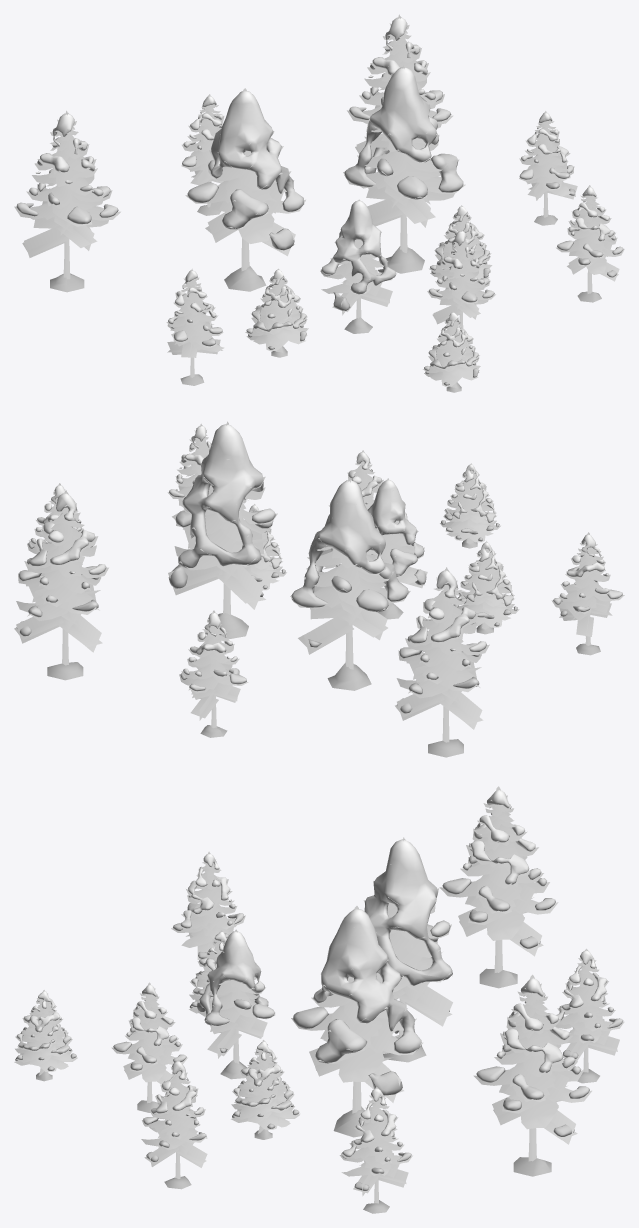
File: bud_xuedi_songlin.fbx
3 views of the same model, one above another, from view 1: azimuth 30°, elevation 25°; view 2: azimuth 150°, elevation 25°; view 3: azimuth 270°, elevation 25° (orthographic). The views are drawn at different scales.
Parts seen in each view (by area): view 1: songlinshu_lod00, songlinshuxue_lod00; view 2: songlinshu_lod00, songlinshuxue_lod00; view 3: songlinshu_lod00, songlinshuxue_lod00.
Part boxes in pixels (<box>): songlinshu_lod00: <box>14,14,624,388</box>; songlinshuxue_lod00: <box>16,17,623,392</box>; songlinshu_lod00: <box>14,421,624,742</box>; songlinshuxue_lod00: <box>16,424,622,757</box>; songlinshu_lod00: <box>14,786,624,1203</box>; songlinshuxue_lod00: <box>15,790,623,1213</box>.
Size of what is drawn, in the model's own units: 5585 by 2149 by 5379.
